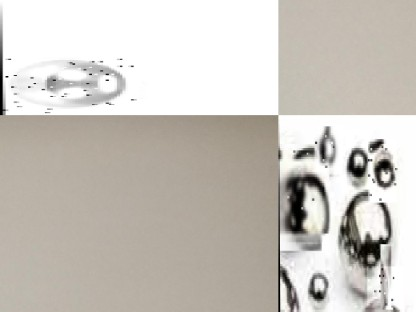ironball: (336, 187, 404, 303), (1, 58, 139, 114), (278, 150, 324, 242), (340, 128, 371, 191), (368, 139, 396, 202), (366, 266, 403, 311), (300, 263, 333, 311), (314, 126, 342, 174), (279, 268, 308, 311)
